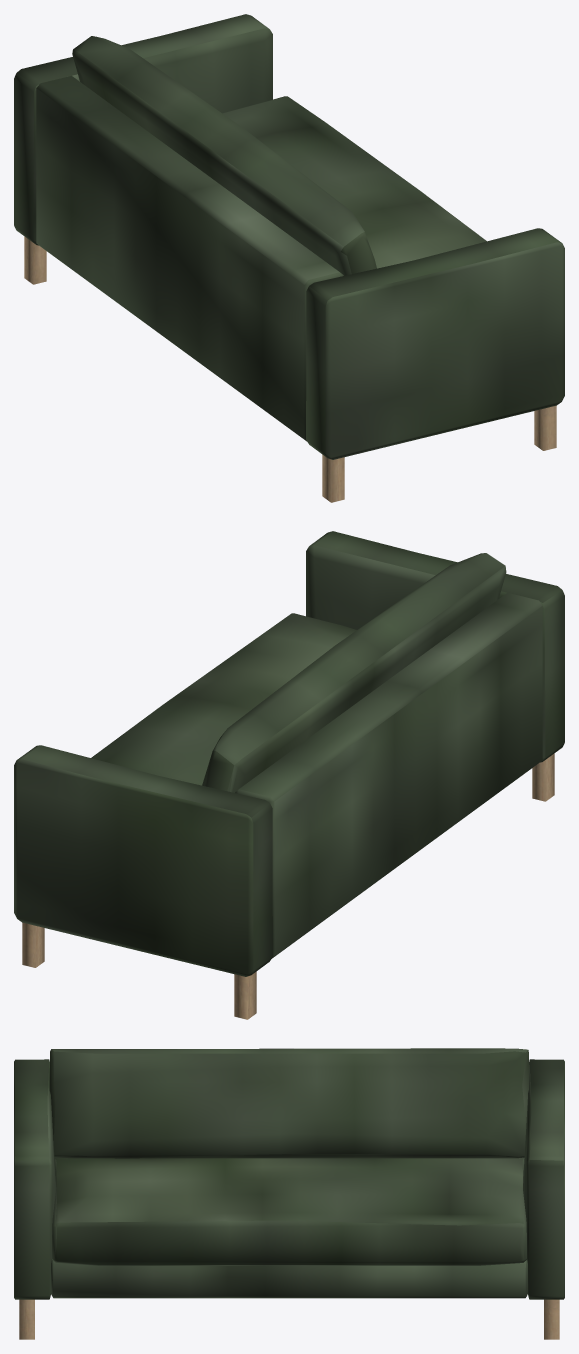
Rendered from GreenSofa.fbx.
3 views of the same model, one above another, from view 1: azimuth 30°, elevation 25°; view 2: azimuth 150°, elevation 25°; view 3: azimuth 270°, elevation 25° (orthographic). The views are drawn at different scales.
Parts seen in each view (by area): view 1: propGreenSofa; view 2: propGreenSofa; view 3: propGreenSofa.
Part boxes in pixels (bbox=[...]): propGreenSofa: bbox=[14, 14, 564, 502]; propGreenSofa: bbox=[14, 531, 564, 1019]; propGreenSofa: bbox=[14, 1048, 564, 1339].
Size of the model in its own units: 90.61 by 84.7 by 194.
2 materials, 2 textured.
